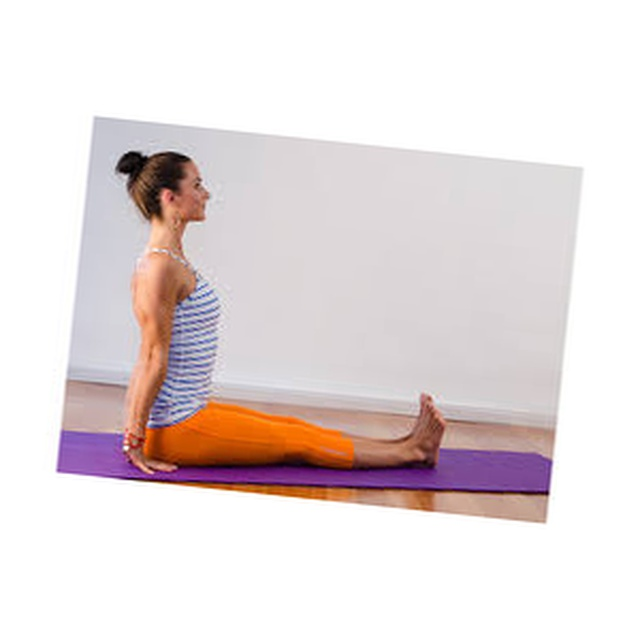Staff_Pose: (115, 151, 445, 475)
